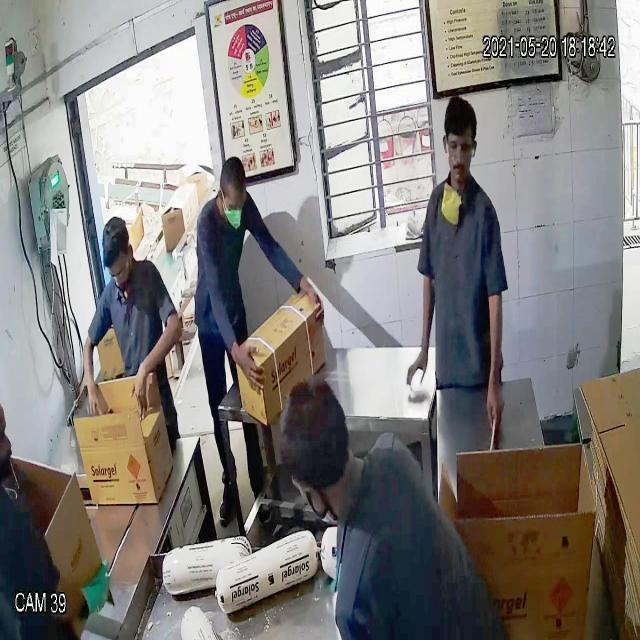glasses: (434, 128, 482, 164), (104, 258, 130, 284)
no-glass: (212, 195, 248, 218)
